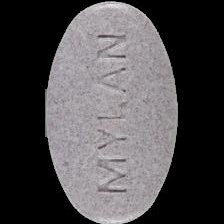51079-923: (0, 0, 224, 224)
